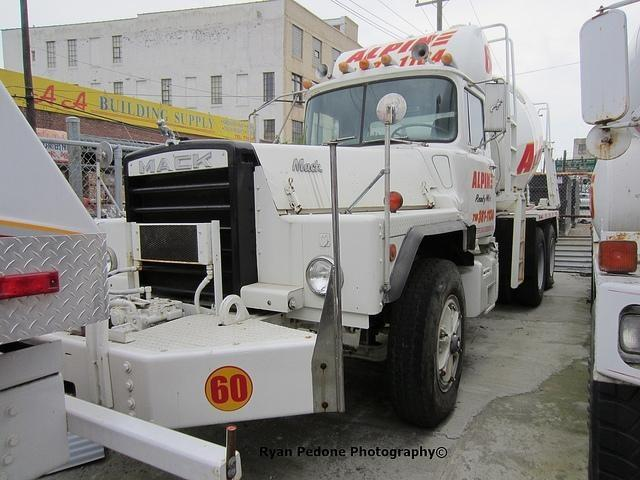truck: (38, 23, 562, 433), (2, 81, 240, 471), (577, 2, 640, 472)
